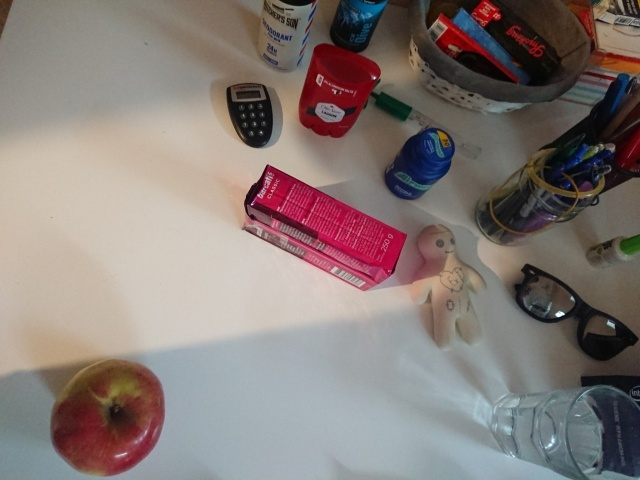Barcaffe Classic Original 225g: (239, 161, 410, 294)
